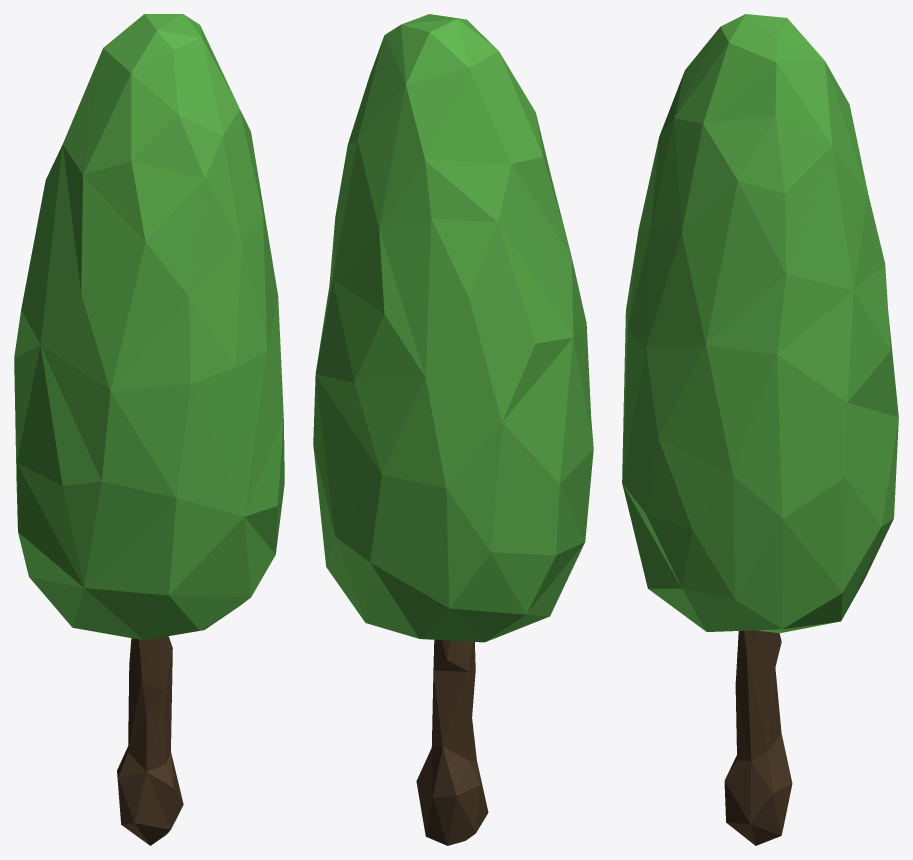
The model's file is Tree01.gltf.
3 renders of one model, left to right at view 1: azimuth 30°, elevation 25°; view 2: azimuth 150°, elevation 25°; view 3: azimuth 270°, elevation 25°, orthographic.
Parts seen in each view (by area): view 1: node-0; view 2: node-0; view 3: node-0.
Part boxes in pixels (bbox=[...]): node-0: bbox=[14, 14, 284, 845]; node-0: bbox=[313, 14, 593, 845]; node-0: bbox=[622, 14, 898, 845].
Bounding box in the file's own units: 2.74 × 9 × 2.73.
